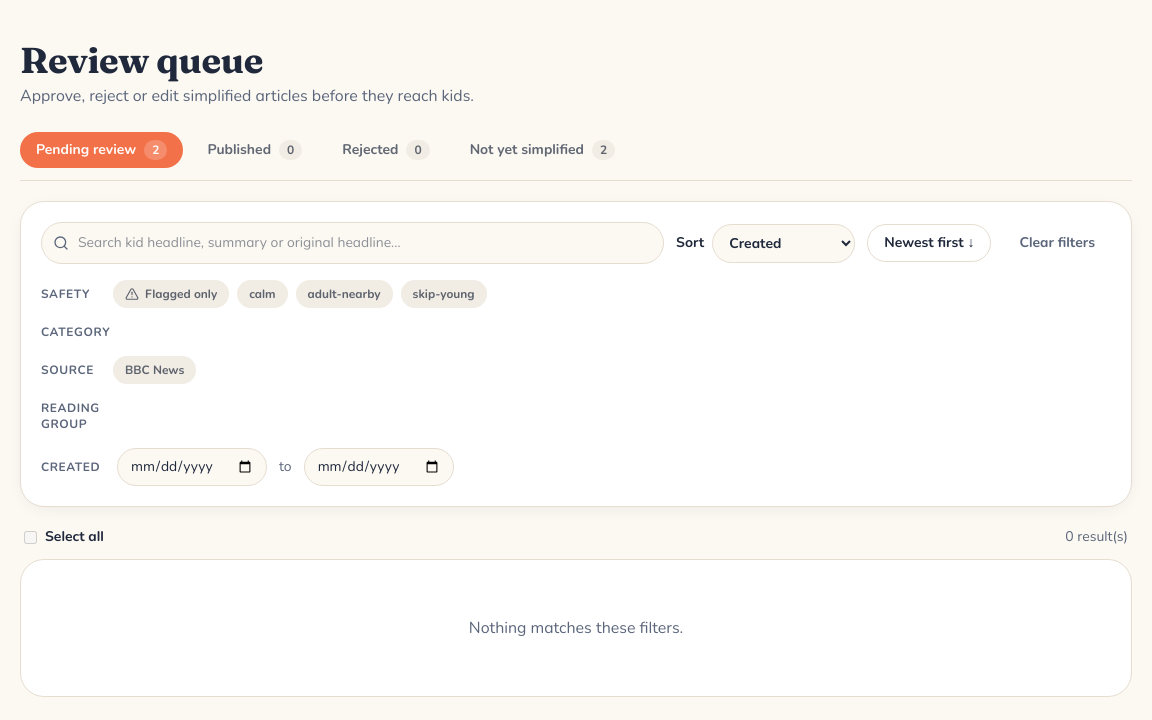
Test: the waiting tab › deletes one row after confirming, then reloads the backlog and the badge
The image size is (1152, 720).
What coordinates should you click on to do the following:
click the button "Not yet simplified 2"
I would click on:
 (542, 150)
Its box is [454,132,631,168].
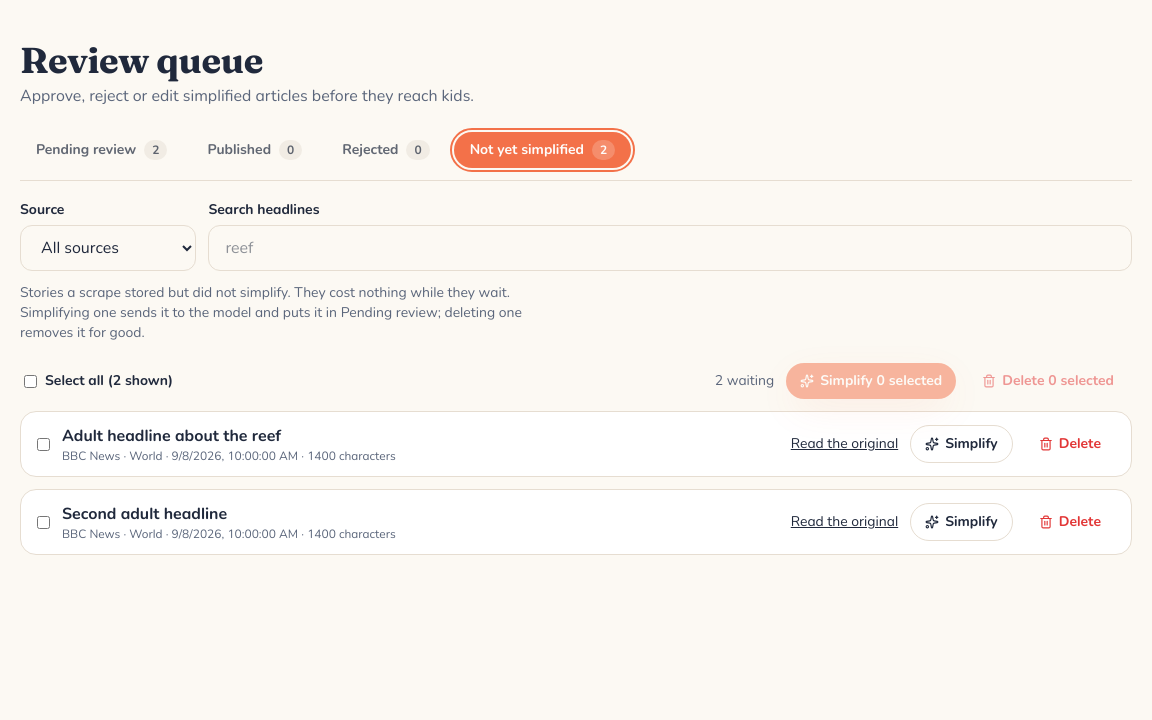
Expected: the text "Adult headline about the reef" is shown, [62,425,281,447]
What coordinates should you click on to do the following:
click the button "Delete" in the row of "Adult headline about the reef"
I would click on:
 (1070, 444)
Its box is [1025,426,1115,462].
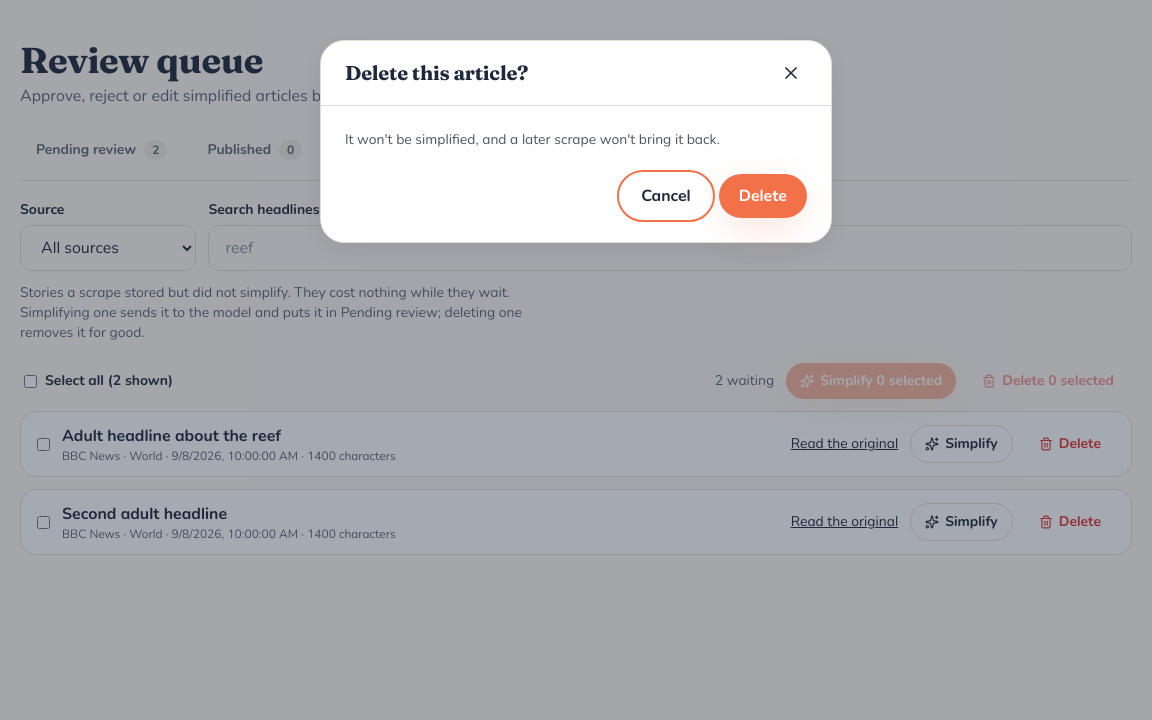
Expected: the text "won't bring it back" is shown, [345,130,720,149]
What coordinates should you click on to do the following:
click the button "Delete"
I would click on:
 (763, 196)
Its box is [719,174,807,218].
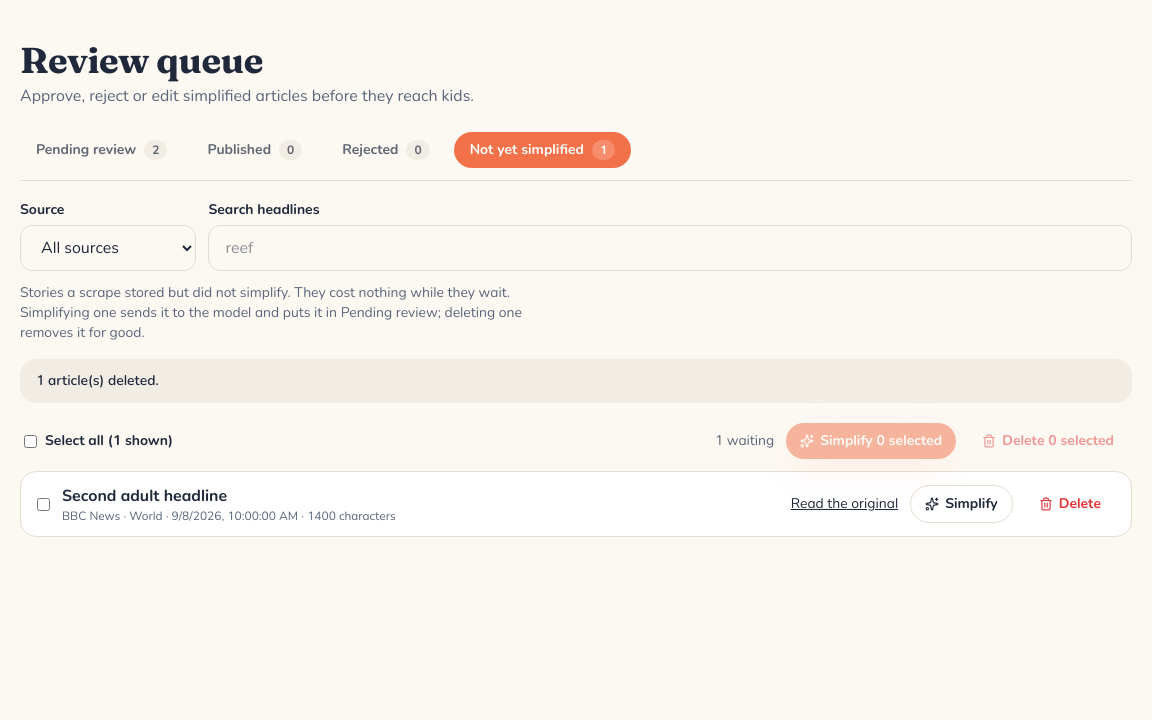
Expected: the text "Adult headline about the reef" is gone
Expected: the text "1 article(s) deleted." is shown, [20,359,1132,403]
Expected: the text "1" is shown, [592,140,615,160]
